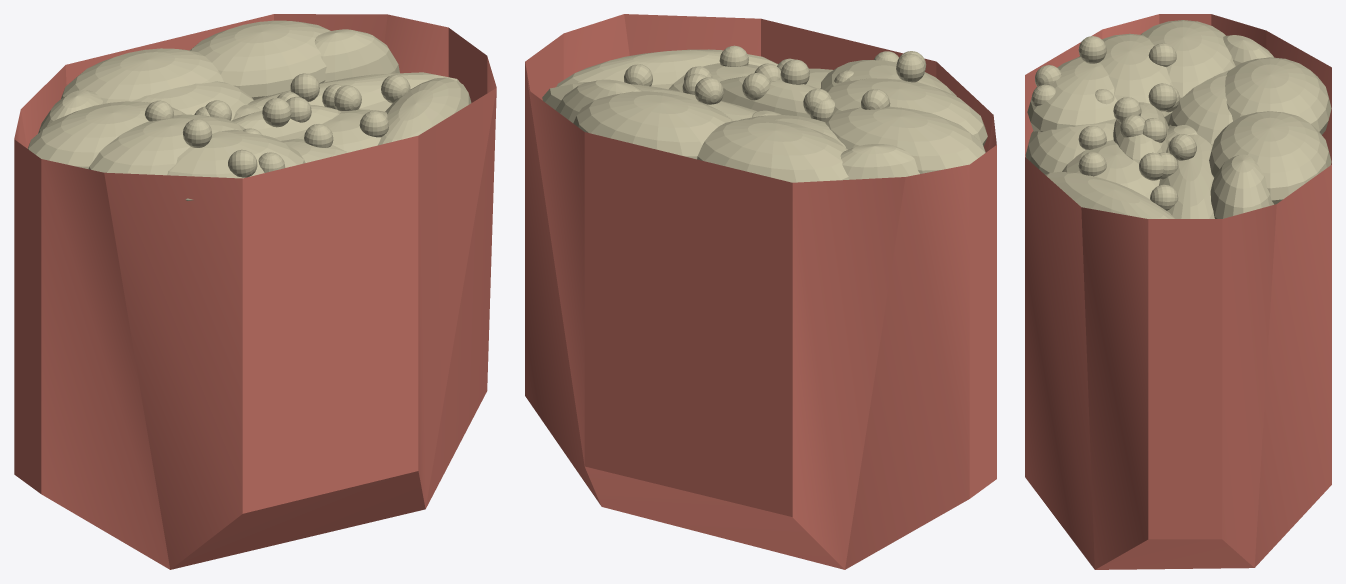
Rendered from maiz.gltf.
3 views of the same model, side by side, from view 1: azimuth 30°, elevation 25°; view 2: azimuth 150°, elevation 25°; view 3: azimuth 270°, elevation 25° (orthographic). The views are drawn at different scales.
Parts seen in each view (by area): view 1: Cubo, Esfera (×20); view 2: Cubo, Esfera (×16); view 3: Cubo, Esfera (×25).
Boxes of the visible parts, x1,y1,x2,y2 form: Cubo: [14, 14, 496, 569]; Esfera (×20): [27, 20, 471, 200]; Cubo: [525, 14, 996, 569]; Esfera (×16): [542, 49, 987, 182]; Cubo: [1025, 14, 1331, 569]; Esfera (×25): [1025, 20, 1331, 218].
Bounding box in the file's own units: 0.1964 × 0.1901 × 0.1241.
